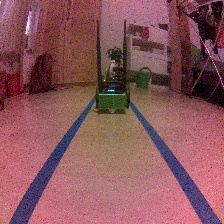rob: (94, 59, 130, 114)
